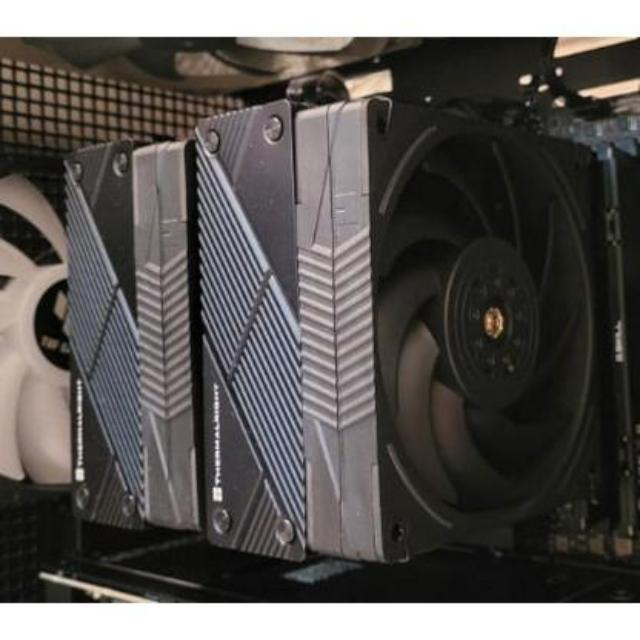CPU_Fan: (57, 72, 615, 570)
